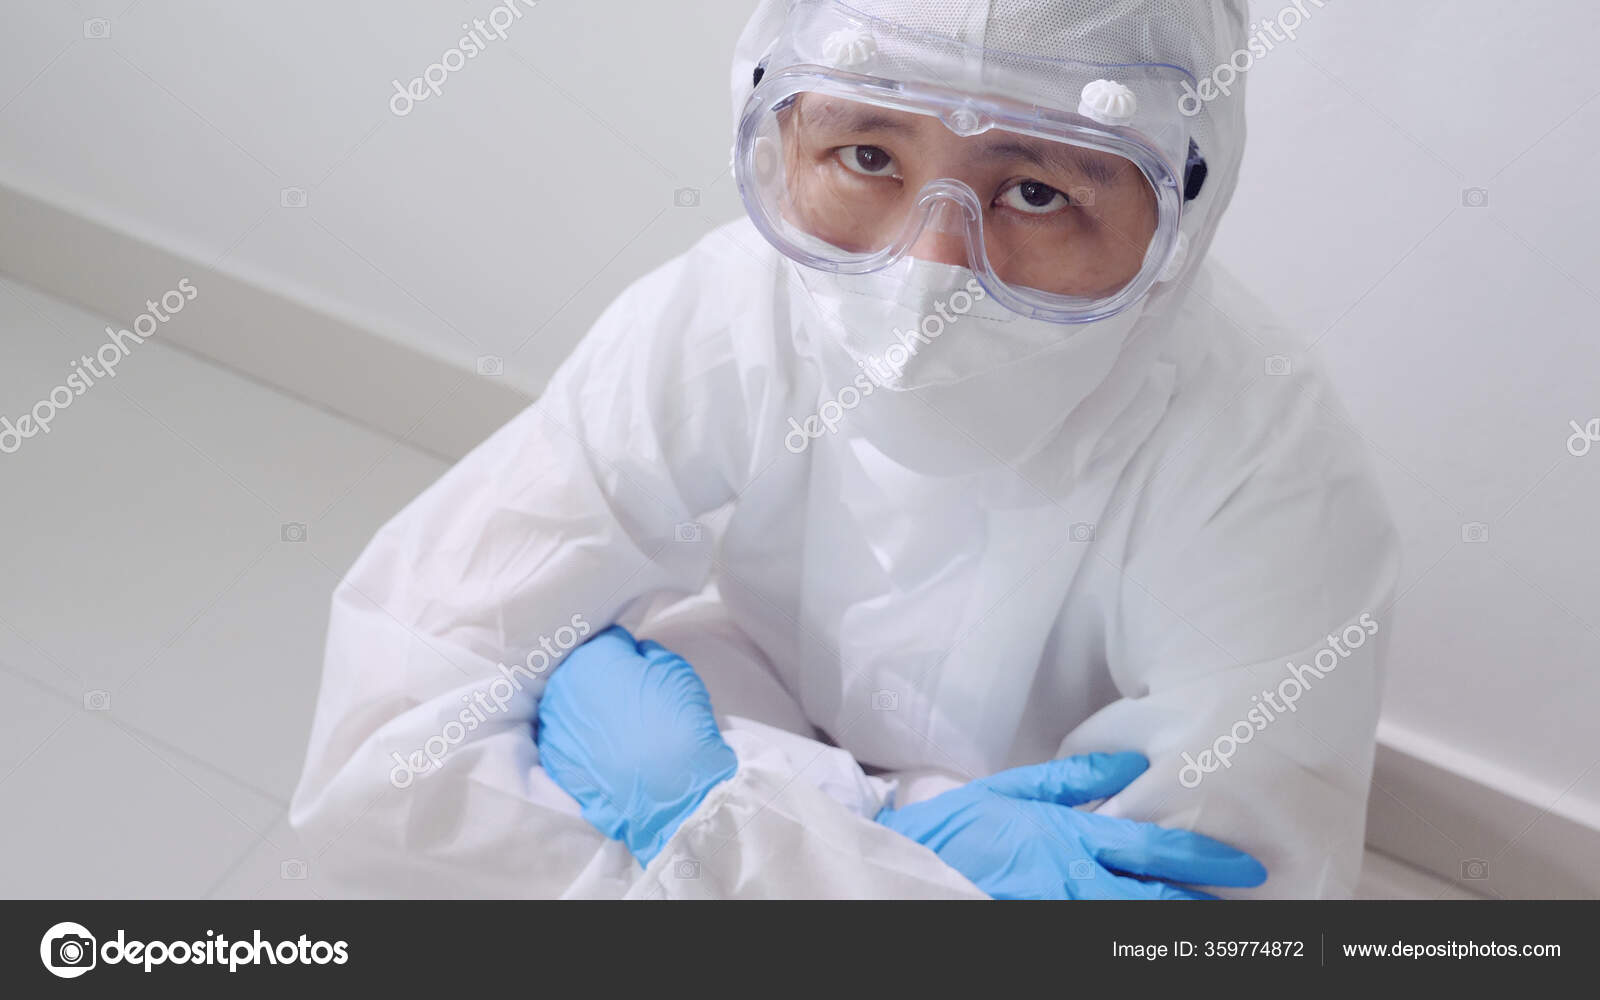Coverall: (292, 1, 1406, 898)
Gloves: (868, 744, 1265, 900), (538, 628, 735, 862)
Goggles: (734, 59, 1200, 336)
with_mask: (754, 152, 1140, 490)
